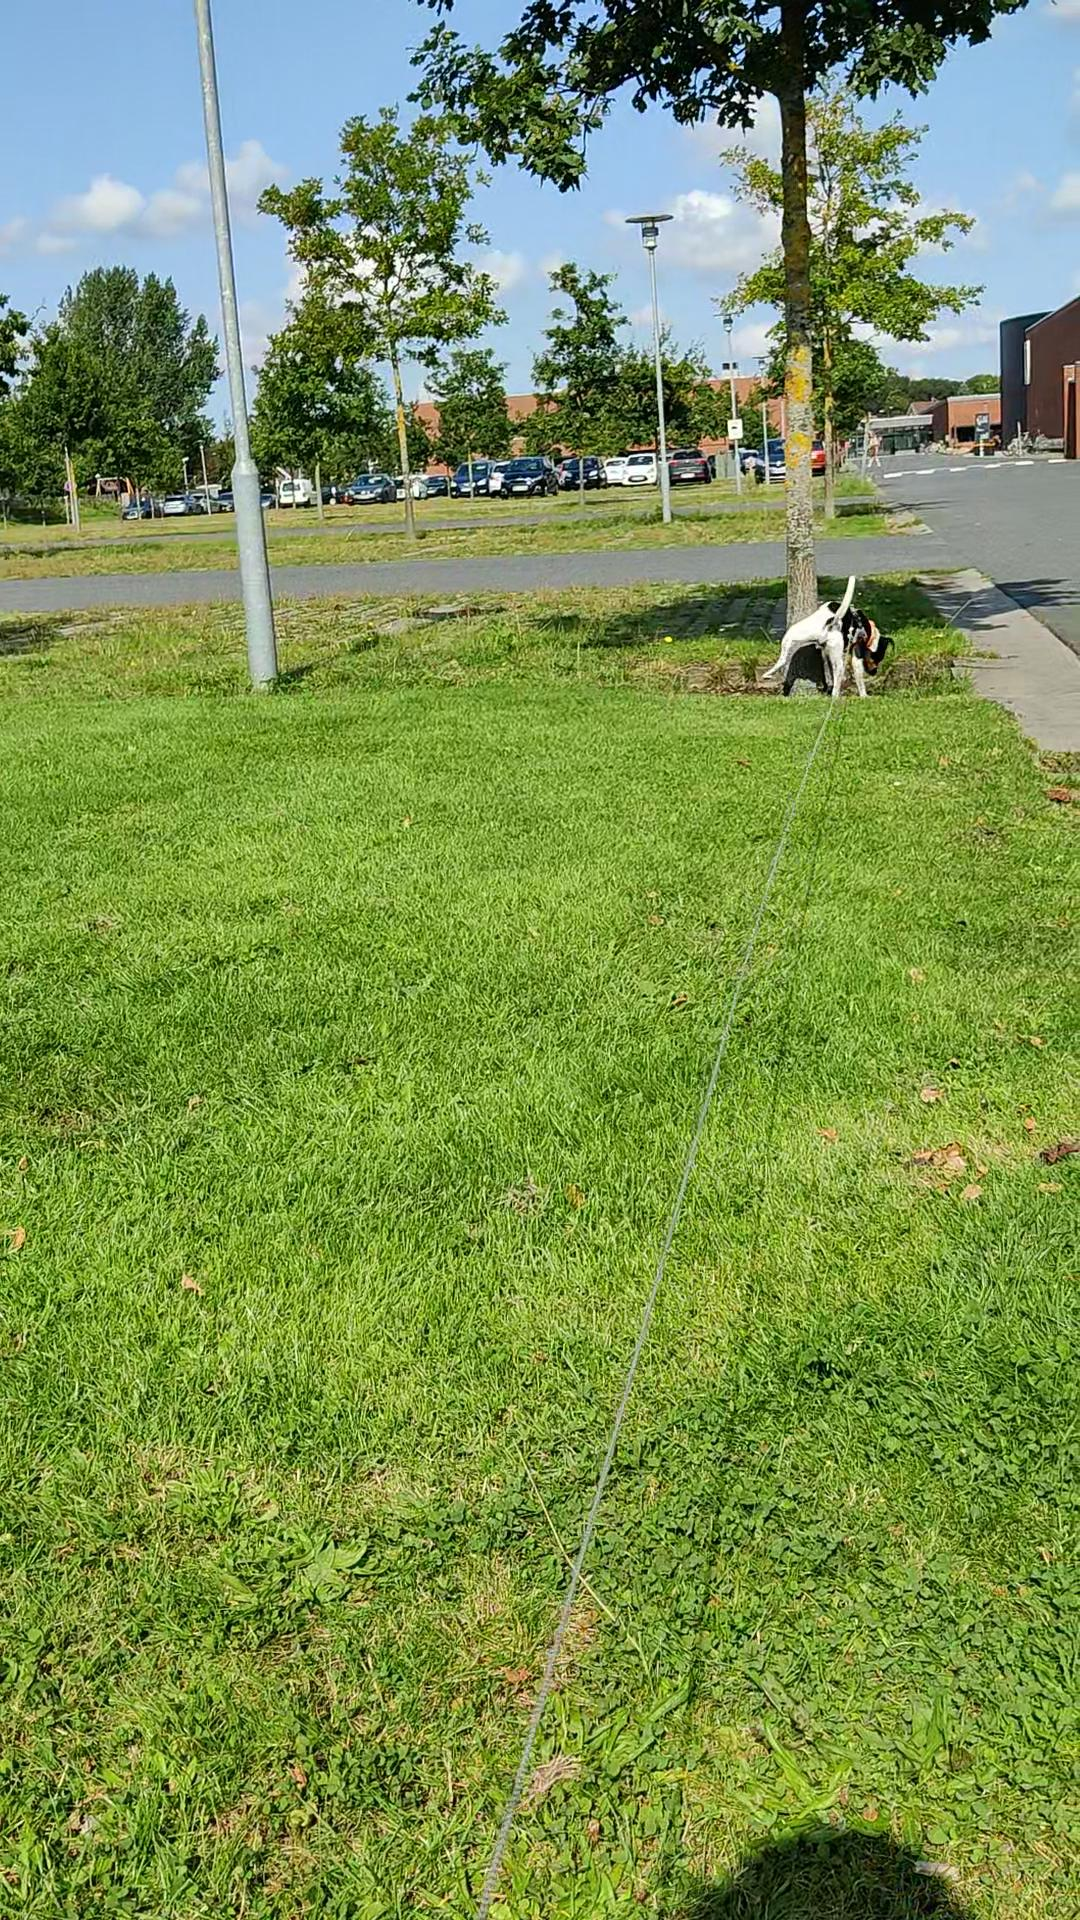Dog: (756, 574, 899, 703)
